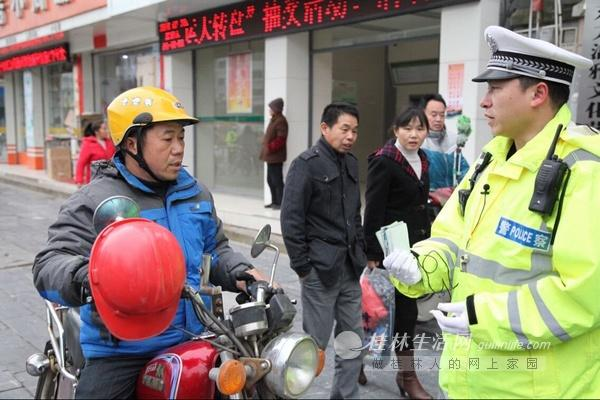helmet: (90, 219, 187, 340), (105, 87, 197, 144)
